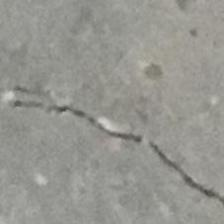Crack: (14, 86, 224, 204)
